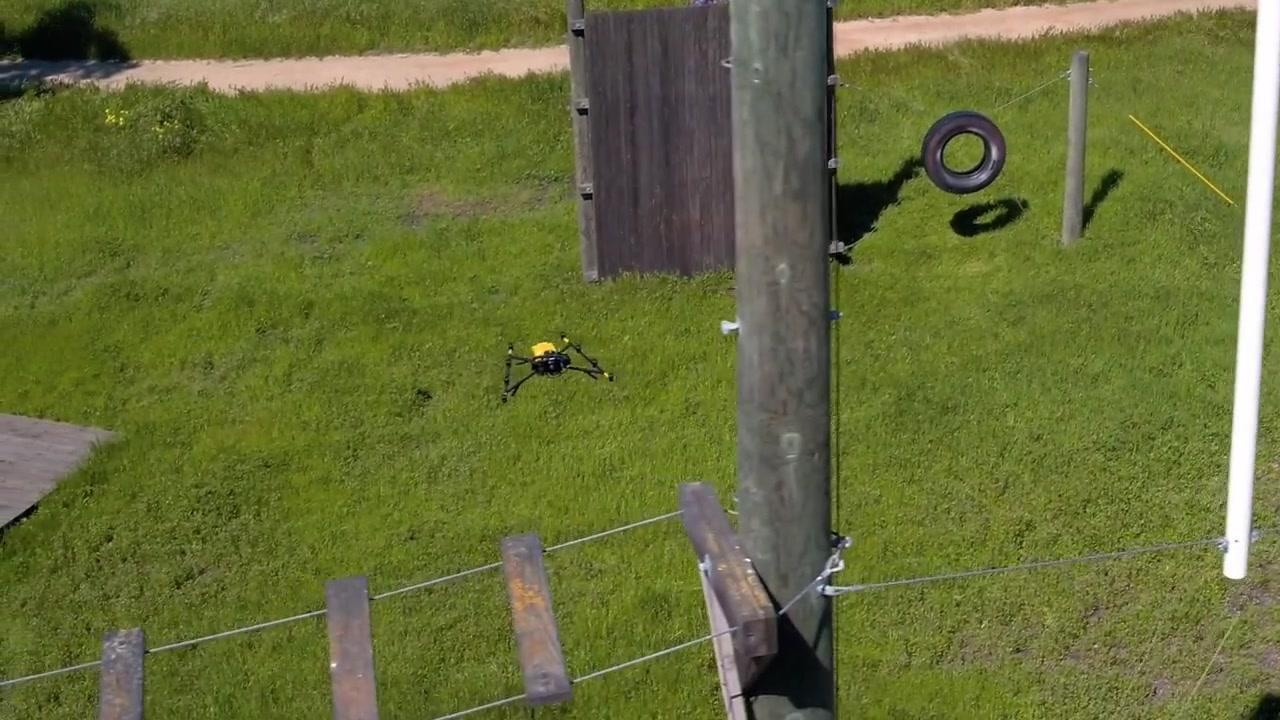UAV: (502, 333, 618, 404)
